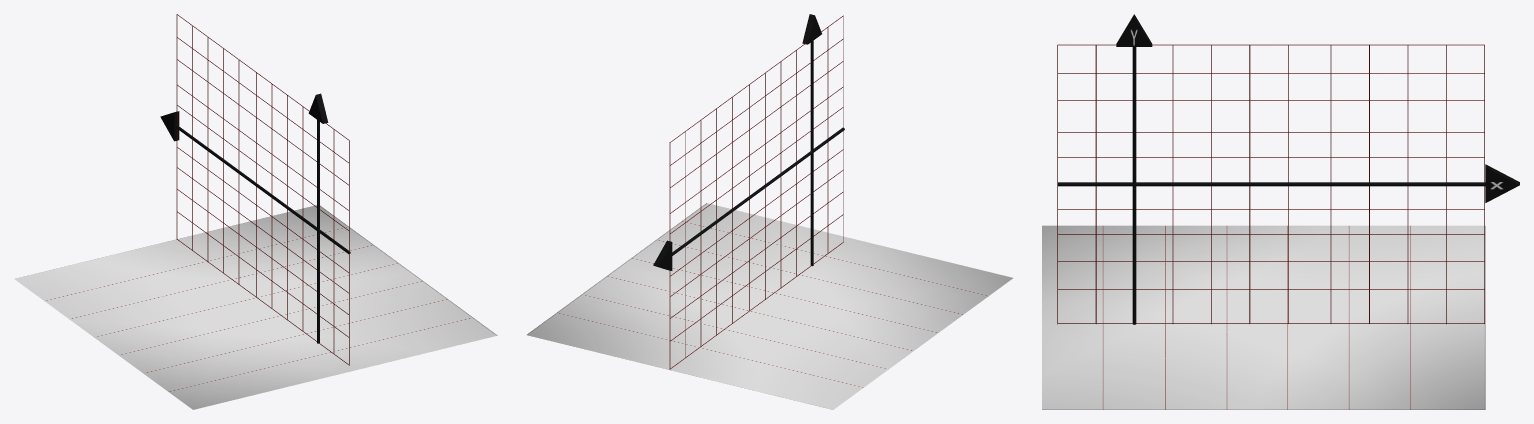
3 views of the same model, side by side, from view 1: azimuth 30°, elevation 25°; view 2: azimuth 150°, elevation 25°; view 3: azimuth 270°, elevation 25° (orthographic). The views are drawn at different scales.
Parts seen in each view (by area): view 1: plane:pPlane1, pCylinder36, pCylinder37, pCylinder40, pCylinder42, pCylinder38, pCylinder33; view 2: plane:pPlane1, pCylinder37, pCylinder36, pCylinder25, pCylinder31, pCylinder40; view 3: plane:pPlane1, pCylinder36, pCylinder37, pCylinder1, nueva_flecha_x:polySurface1, Nueva_flecha_y:polySurface1, pCylinder29, pCylinder40, pCylinder42, pCylinder25, pCylinder33.
Boxes of the visible parts, x1=… form: plane:pPlane1: x1=14, y1=205, x2=497, y2=409; pCylinder36: x1=175, y1=125, x2=350, y2=254; pCylinder37: x1=317, y1=120, x2=319, y2=343; pCylinder40: x1=207, y1=37, x2=208, y2=261; pCylinder42: x1=238, y1=60, x2=239, y2=284; pCylinder38: x1=176, y1=15, x2=177, y2=239; pCylinder33: x1=271, y1=84, x2=272, y2=307; plane:pPlane1: x1=527, y1=203, x2=1012, y2=409; pCylinder37: x1=810, y1=41, x2=813, y2=266; pCylinder36: x1=672, y1=127, x2=844, y2=255; pCylinder25: x1=827, y1=27, x2=828, y2=253; pCylinder31: x1=780, y1=62, x2=781, y2=287; pCylinder40: x1=700, y1=120, x2=701, y2=345; plane:pPlane1: x1=1042, y1=225, x2=1485, y2=409; pCylinder36: x1=1057, y1=182, x2=1485, y2=186; pCylinder37: x1=1132, y1=47, x2=1136, y2=324; pCylinder1: x1=1058, y1=44, x2=1484, y2=45; nueva_flecha_x:polySurface1: x1=1485, y1=164, x2=1519, y2=202; Nueva_flecha_y:polySurface1: x1=1116, y1=14, x2=1152, y2=46; pCylinder29: x1=1172, y1=45, x2=1173, y2=323; pCylinder40: x1=1407, y1=45, x2=1408, y2=323; pCylinder42: x1=1330, y1=45, x2=1331, y2=323; pCylinder25: x1=1095, y1=45, x2=1096, y2=323; pCylinder33: x1=1249, y1=45, x2=1250, y2=323.
Size of the model in its own units: 56.75 by 44.29 by 62.19.
